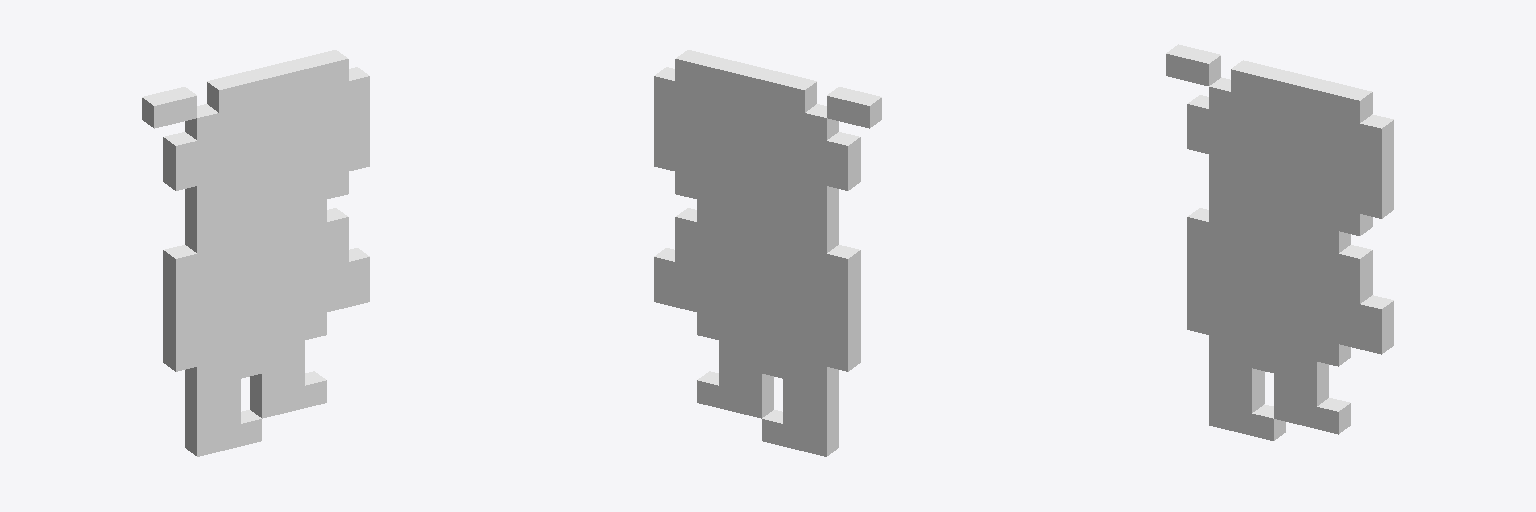
Rendered from Run4.obj.
3 renders of one model, left to right at view 1: azimuth 30°, elevation 25°; view 2: azimuth 150°, elevation 25°; view 3: azimuth 330°, elevation 25°, orthographic.
Parts seen in each view (by area): view 1: object 1; view 2: object 1; view 3: object 1.
Part boxes in pixels (x1,y1,x2,y2): object 1: (142, 50, 369, 456); object 1: (654, 50, 881, 456); object 1: (1166, 44, 1393, 440).
Size of the model in its own units: 1 by 1.6 by 0.1.